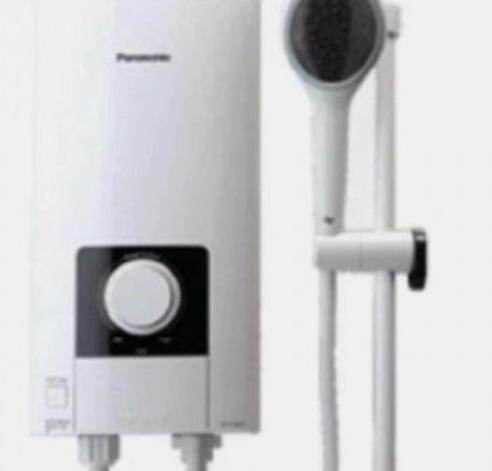Ducha: (6, 0, 455, 471)
